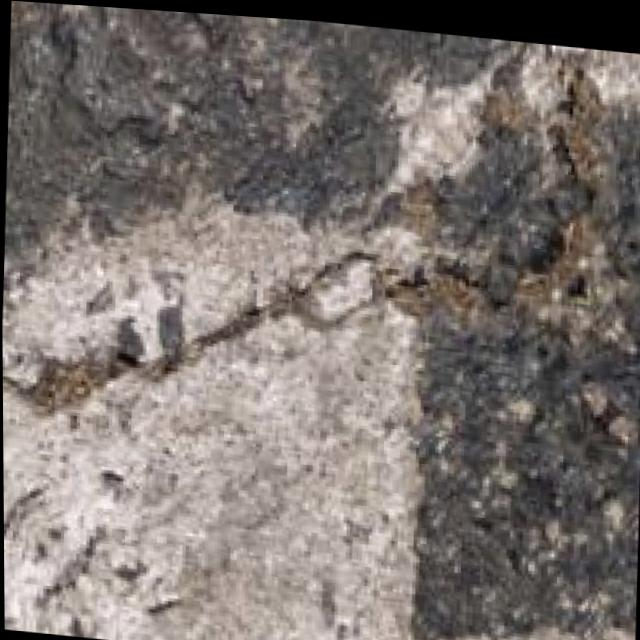Crack: (1, 185, 361, 524)
